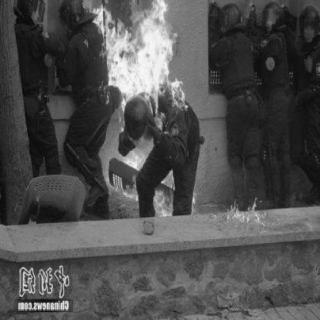Fire: (89, 0, 199, 128)
